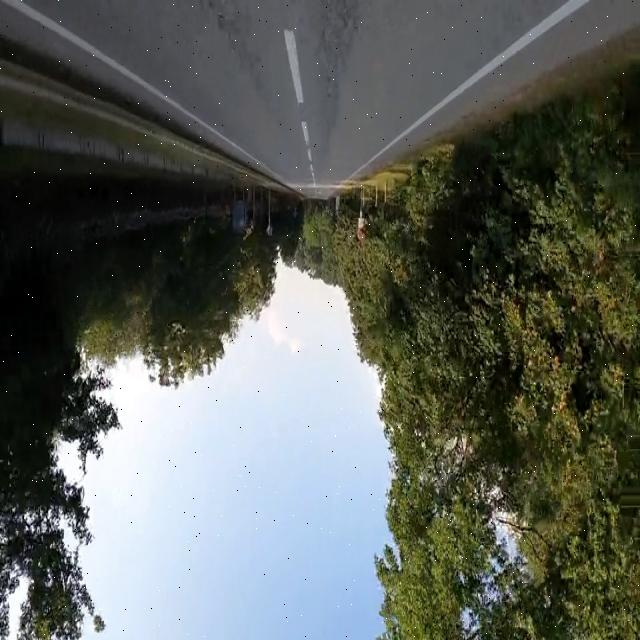lane: (343, 1, 588, 183), (4, 1, 269, 168), (284, 29, 304, 104), (301, 121, 309, 144)
